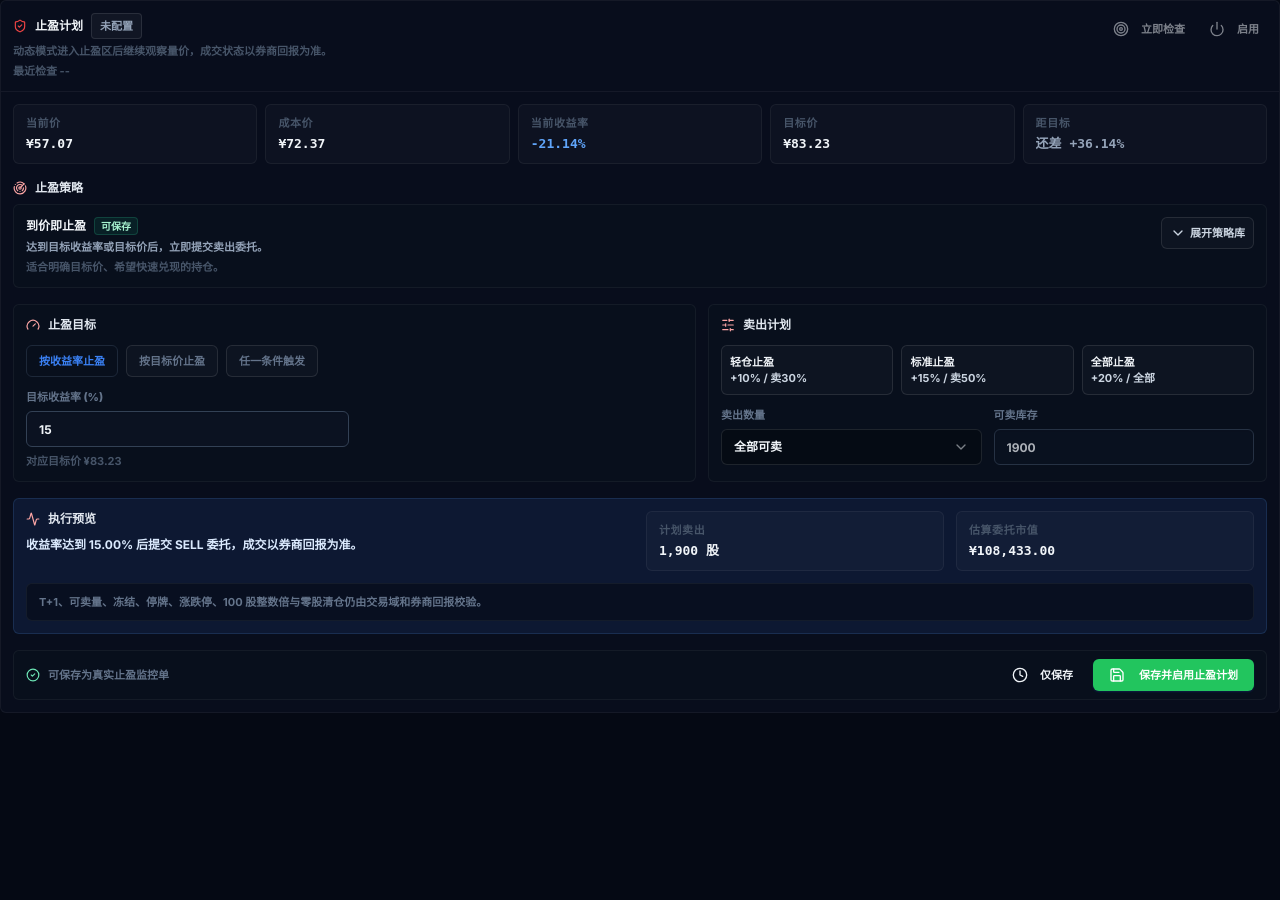
it: TakeProfitPlanPanel › shows advanced strategies as disabled until the monitor engine exists
Step 1. Click the button "展开策略库" → [1208, 233], box top-left (1161, 217), bottom-right (1254, 249)
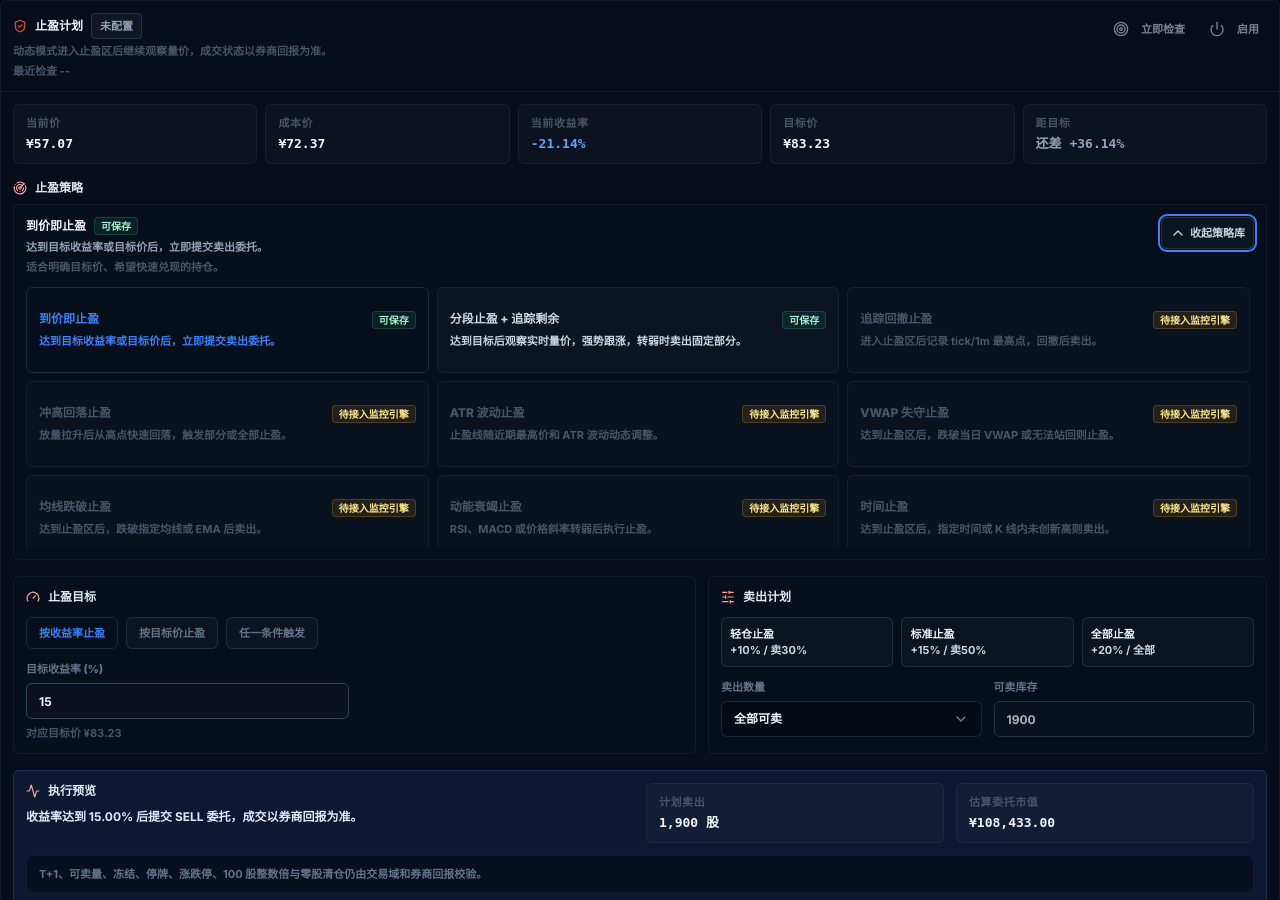
Expected: the button with test id "take-profit-template-TRAILING_DRAWDOWN" is disabled, top-left (847, 287), bottom-right (1250, 373)
Expected: the 1st text "待接入监控引擎" is shown, top-left (1153, 311), bottom-right (1237, 329)
